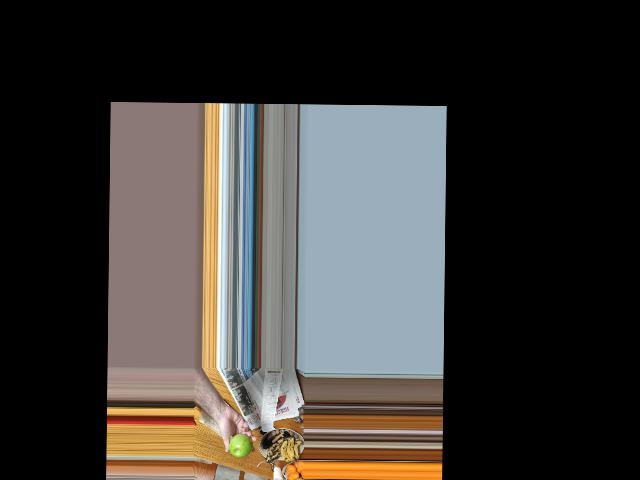apple: (225, 431, 253, 460)
